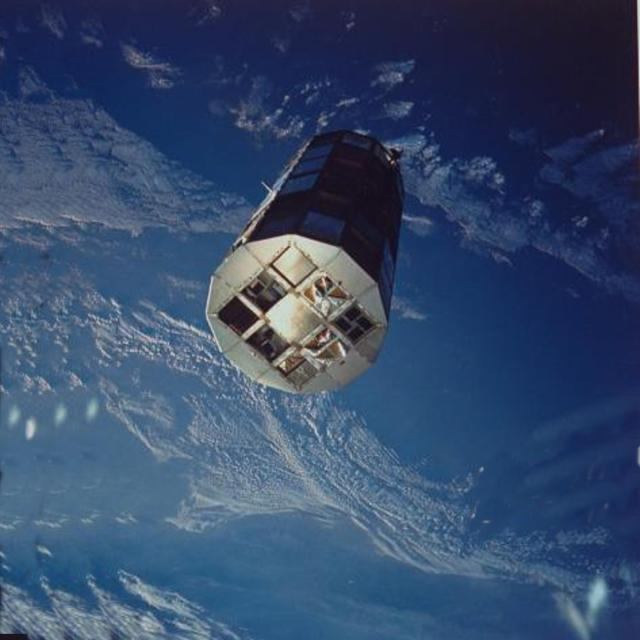sat: (203, 111, 413, 407)
